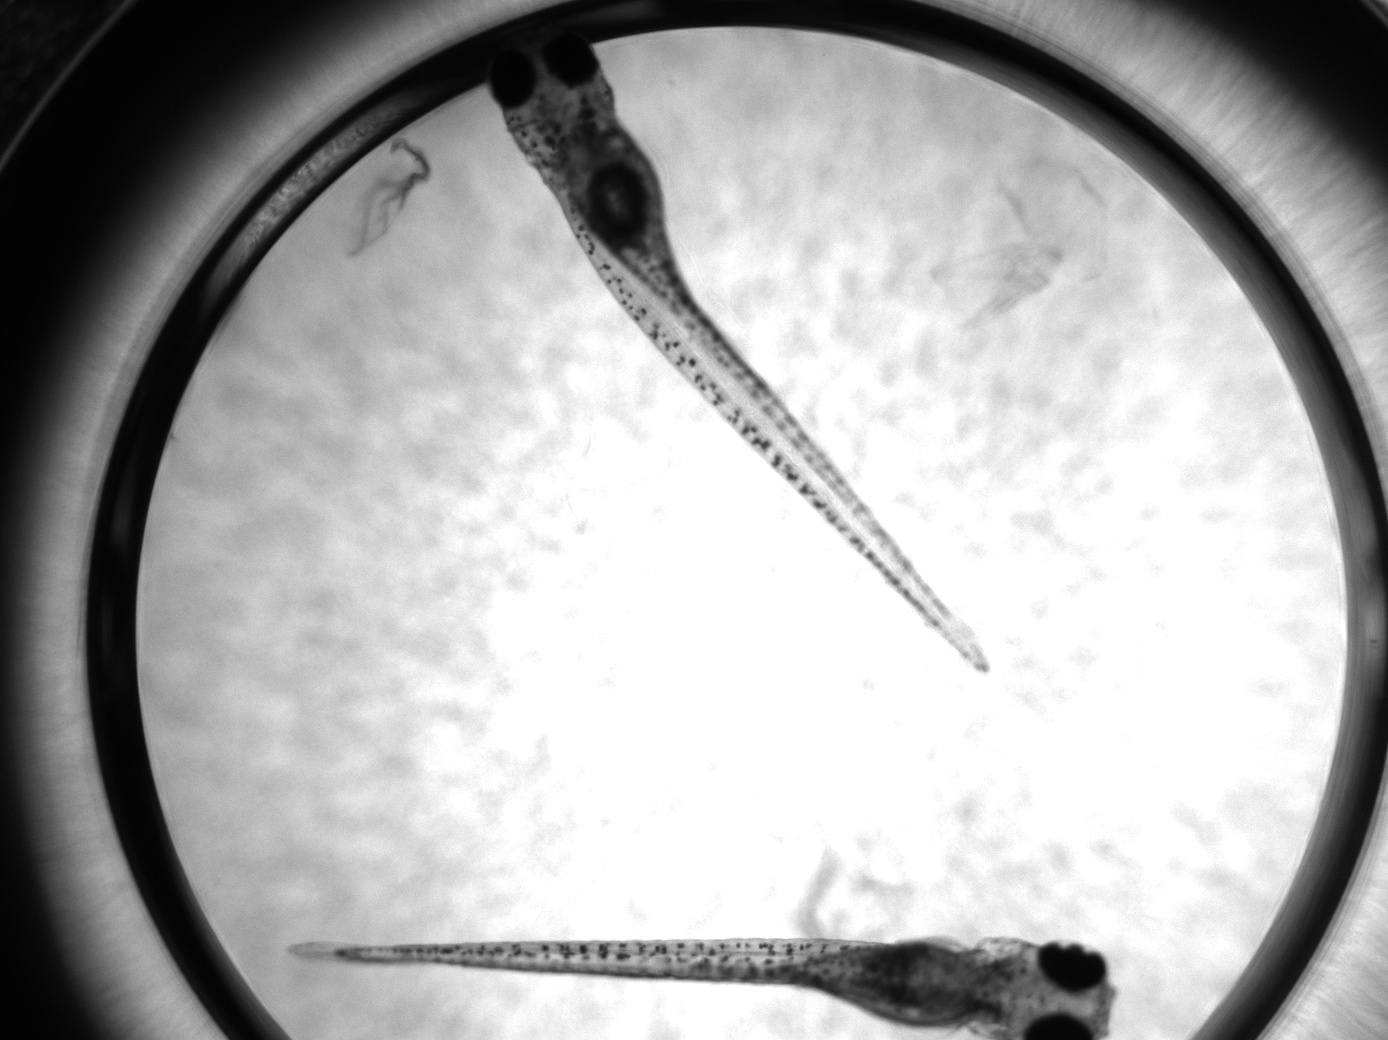debris: (343, 135, 432, 257)
embryo: (490, 35, 992, 674), (290, 936, 1117, 1040)
eye: (1035, 938, 1105, 995), (489, 38, 538, 109), (539, 35, 600, 90), (1023, 1014, 1099, 1040)
yolksac: (558, 133, 684, 285), (821, 935, 975, 1028)
